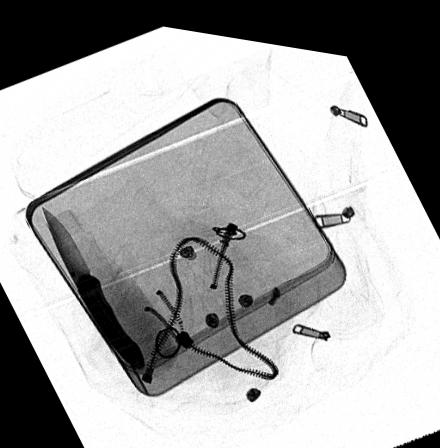Knife: (38, 202, 146, 366)
